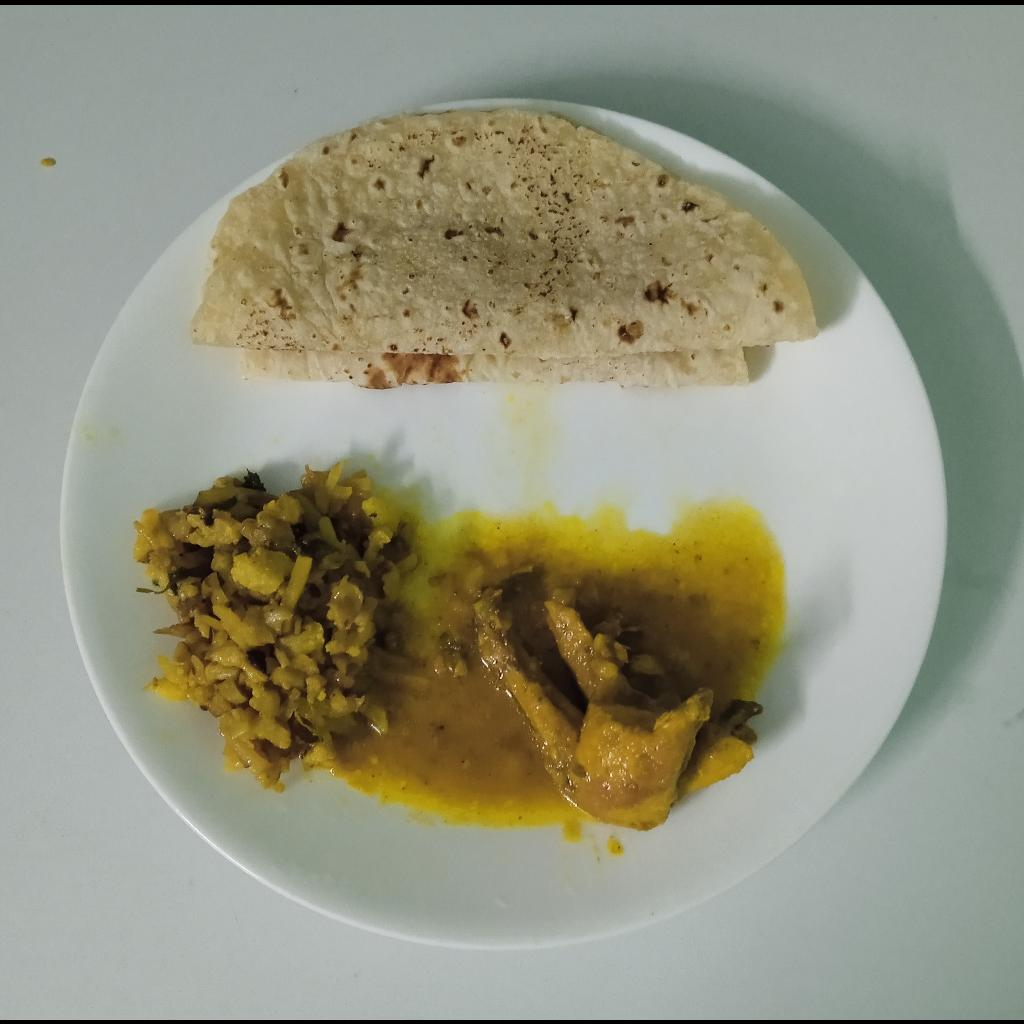cauliflower: (142, 468, 391, 785)
chicken: (475, 567, 766, 831)
ruti: (186, 110, 826, 393)
